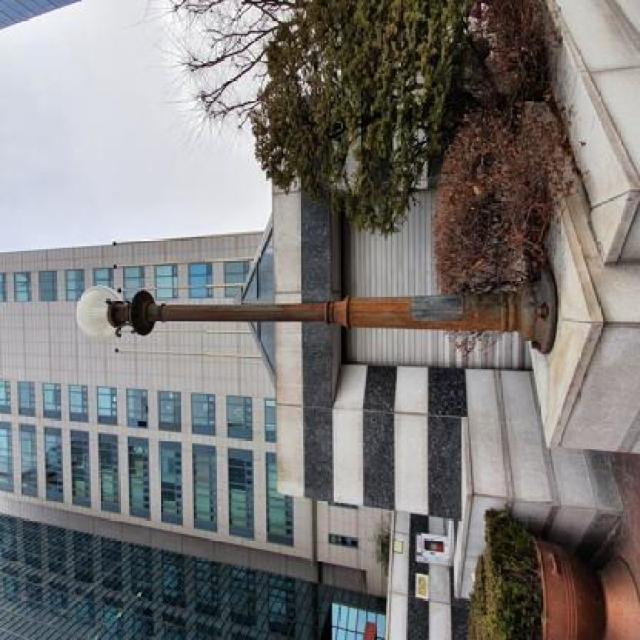pole: (68, 256, 566, 362)
